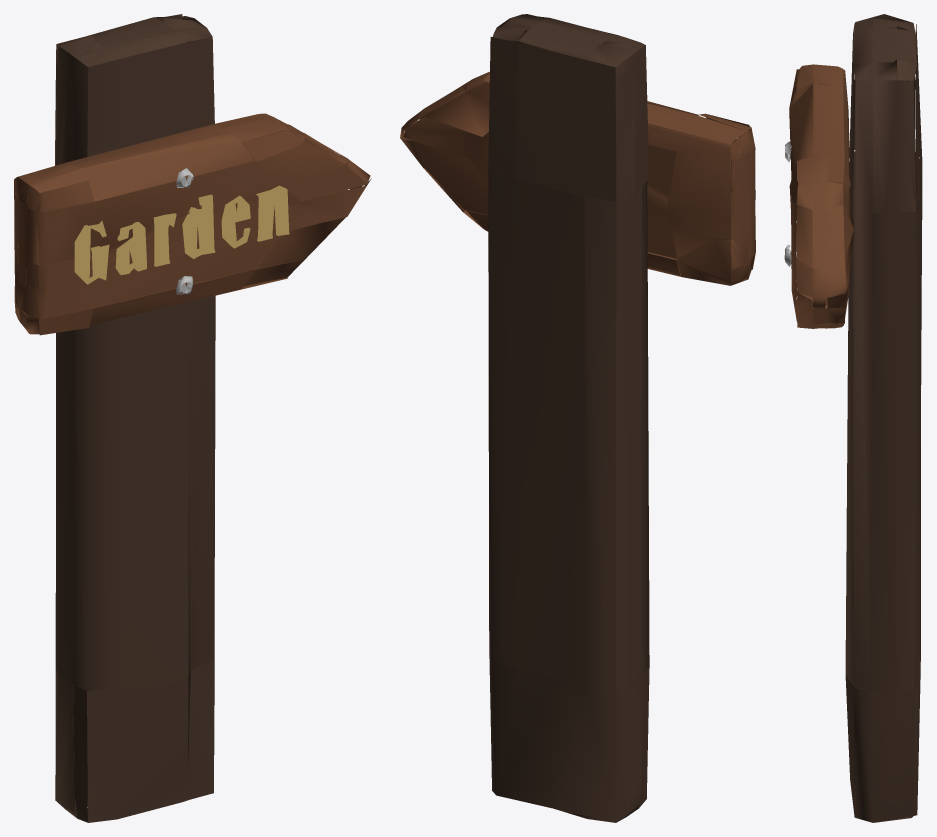
File: garden_sign.glb
The picture shows the model from 3 angles, left to right: view 1: azimuth 30°, elevation 25°; view 2: azimuth 150°, elevation 25°; view 3: azimuth 270°, elevation 25°; orthographic projection. The views are drawn at different scales.
Visible parts, largest first — view 1: garden_sign; view 2: garden_sign; view 3: garden_sign.
Boxes of the visible parts, bbox=[...] form: garden_sign: bbox=[14, 14, 371, 822]; garden_sign: bbox=[400, 14, 755, 822]; garden_sign: bbox=[784, 14, 922, 822].
Size of the model in its own units: 1.65 by 3.52 by 0.5849.
